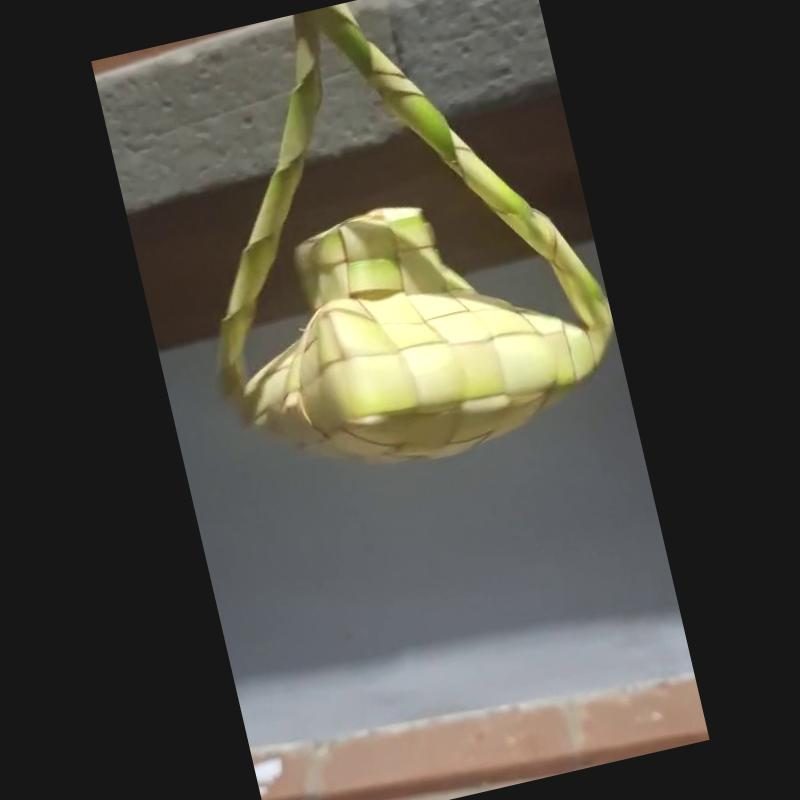Tipat Gong: (219, 2, 614, 462)
